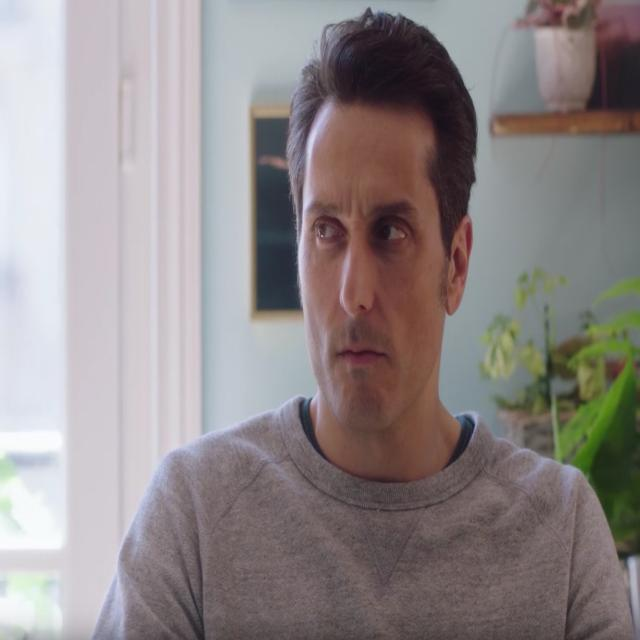mobile_phonerotation: (90, 7, 634, 638)
